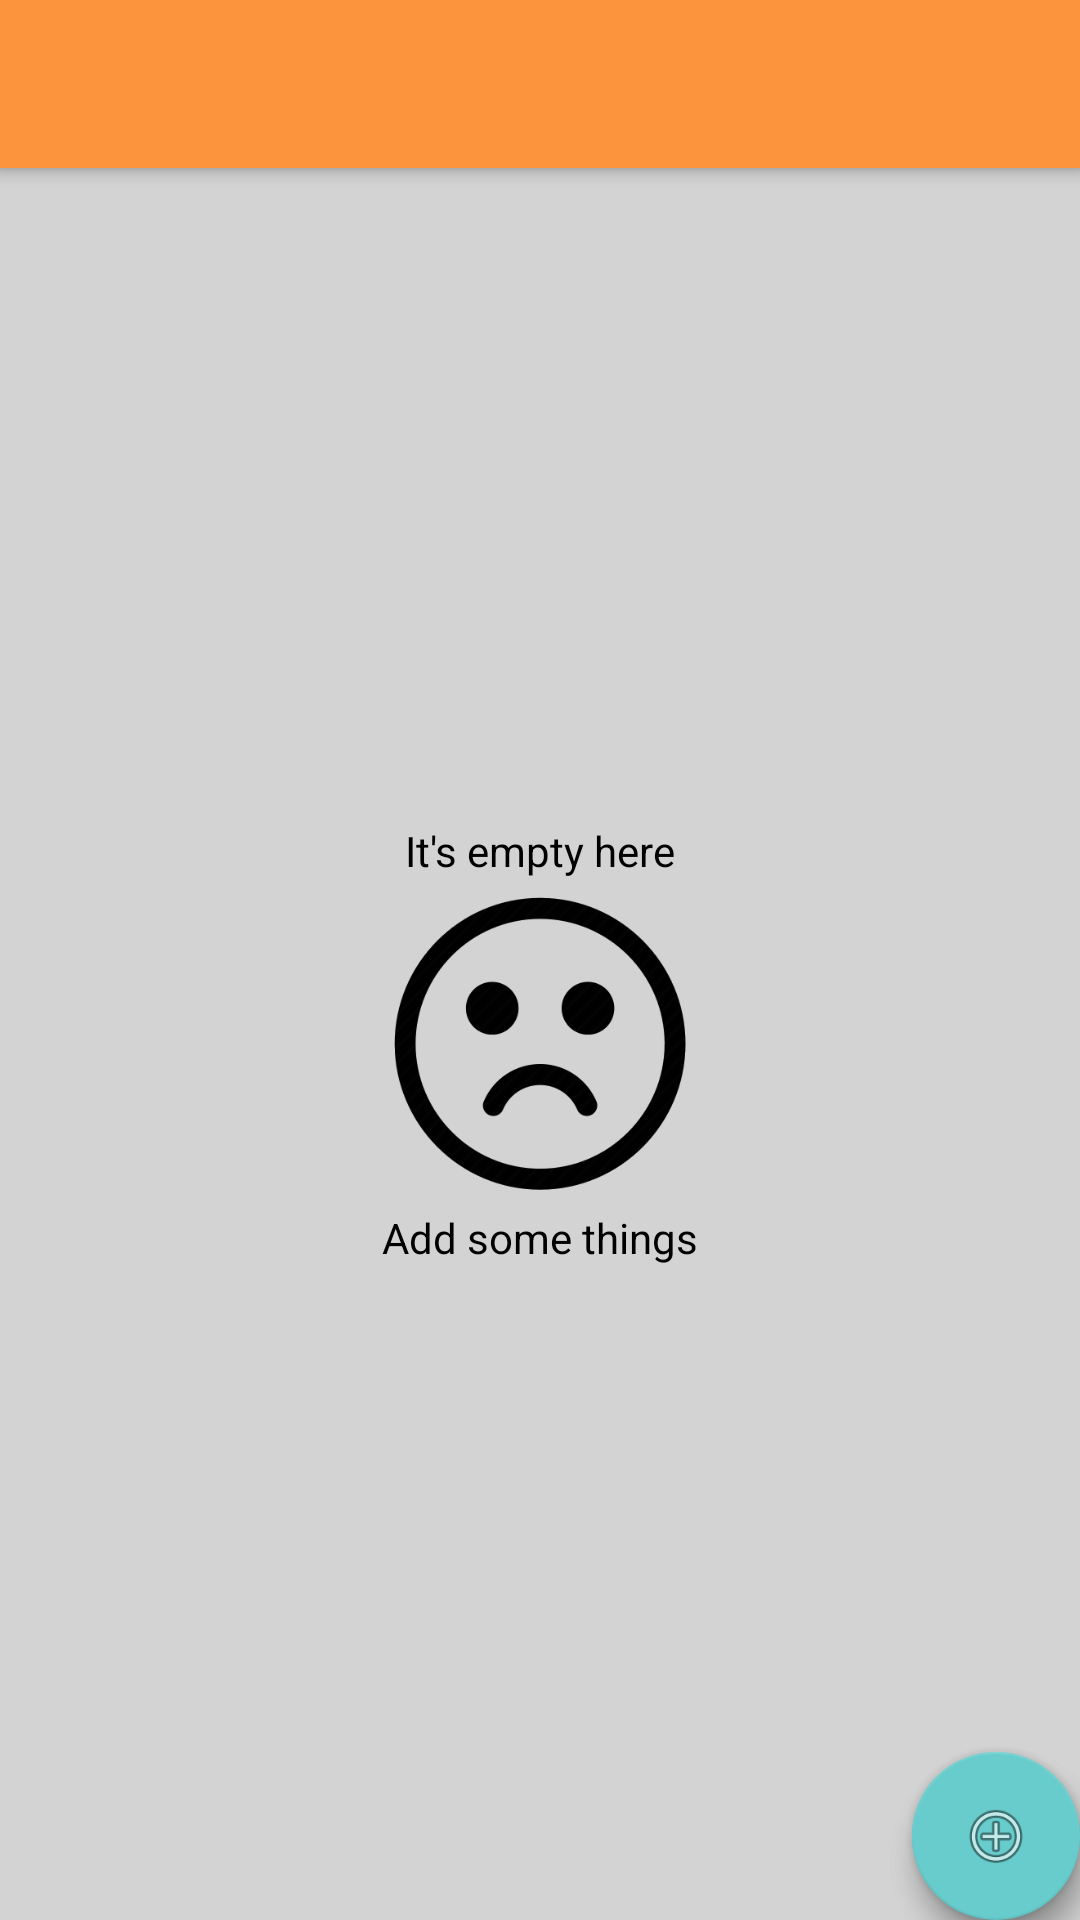

Screen size 1080×1920. Icon name, then its center in pixels as [x,y]:
sad face: [540,1043]
